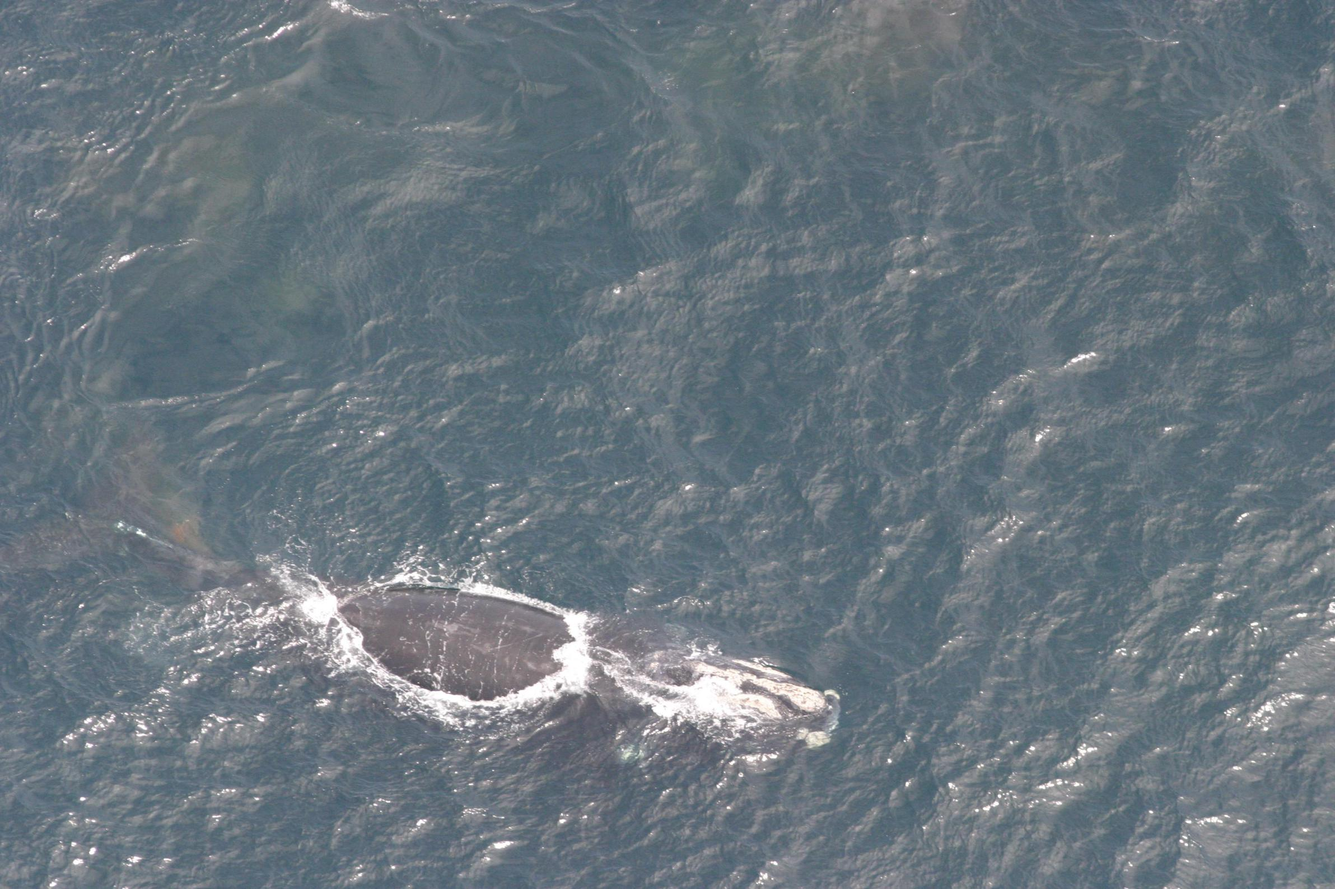whale: (0, 422, 846, 784)
